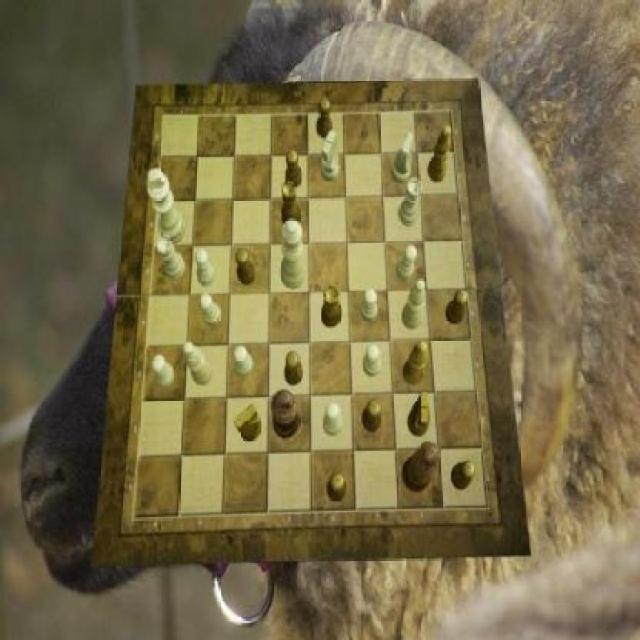bishop: (428, 126, 450, 185), (403, 340, 429, 385)
black-bishop: (271, 391, 300, 438)
black-king: (234, 405, 261, 442), (408, 391, 430, 436)
black-knight: (444, 290, 468, 326), (452, 460, 477, 491), (237, 250, 257, 286), (284, 351, 304, 385), (316, 97, 332, 138), (362, 398, 381, 432), (286, 151, 303, 189), (328, 471, 348, 502)
black-pawn: (402, 441, 441, 494)
black-queen: (282, 182, 302, 229), (322, 285, 342, 327)
black-rook: (183, 341, 213, 384), (403, 280, 426, 331)
white-bishop: (148, 170, 185, 246)
white-king: (391, 132, 413, 185), (320, 131, 339, 183)
white-knight: (152, 354, 175, 388), (198, 294, 221, 328), (196, 249, 216, 287), (396, 244, 416, 280), (323, 403, 343, 437), (234, 346, 254, 377), (363, 343, 381, 377), (360, 289, 378, 323)
white-pawn: (280, 220, 306, 291)
white-queen: (157, 234, 186, 280), (400, 177, 423, 226)
